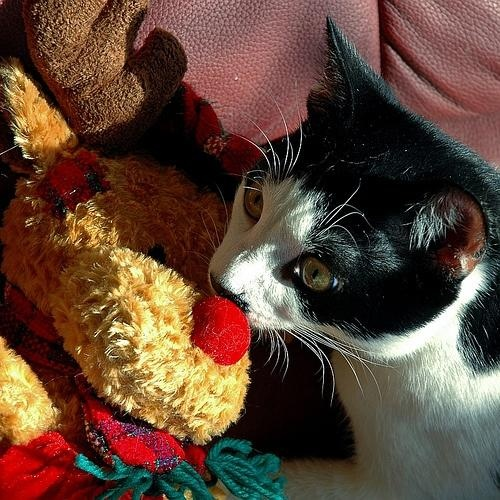cat: (211, 14, 500, 500)
